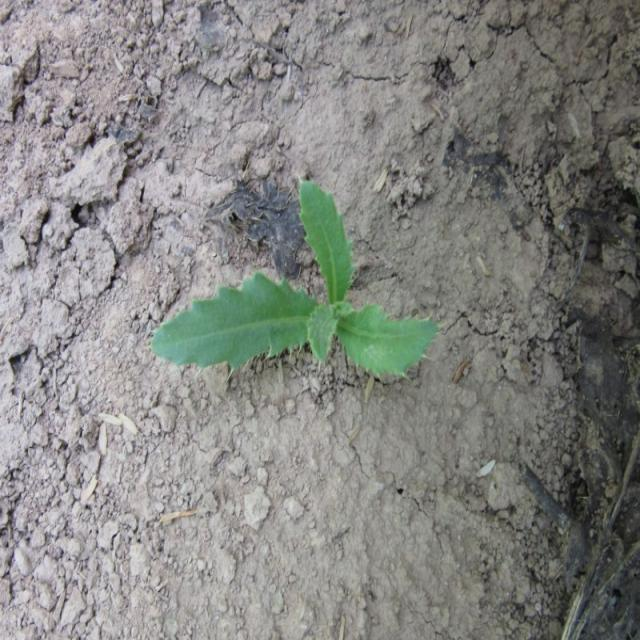cs: (148, 170, 440, 392)
